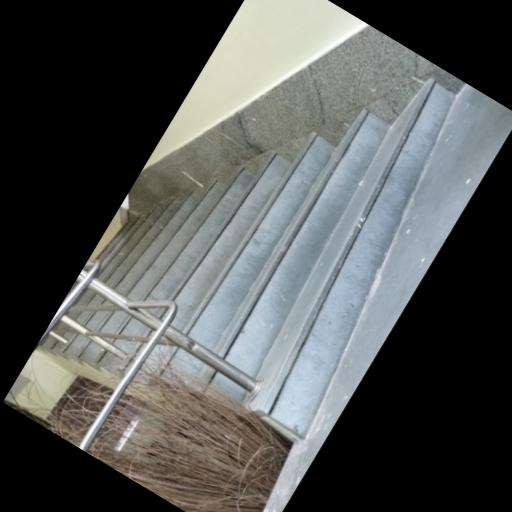stairs: (99, 81, 454, 437)
